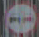No overtake: (5, 1, 38, 34)
